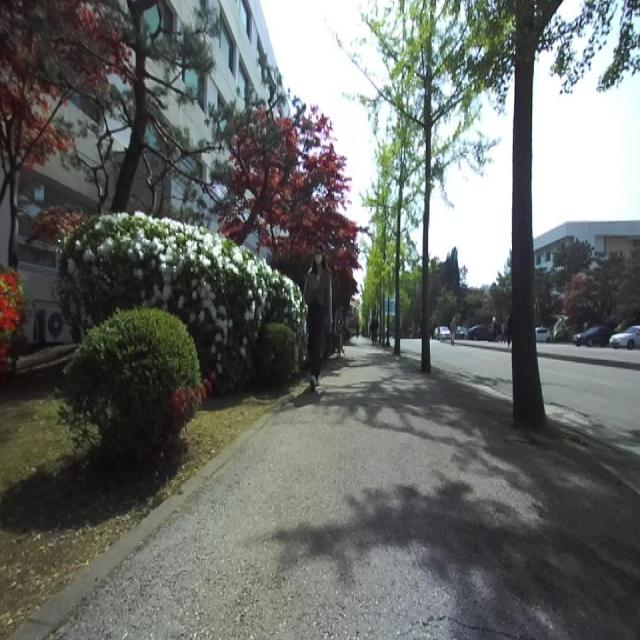sidewalk: (54, 339, 640, 639)
